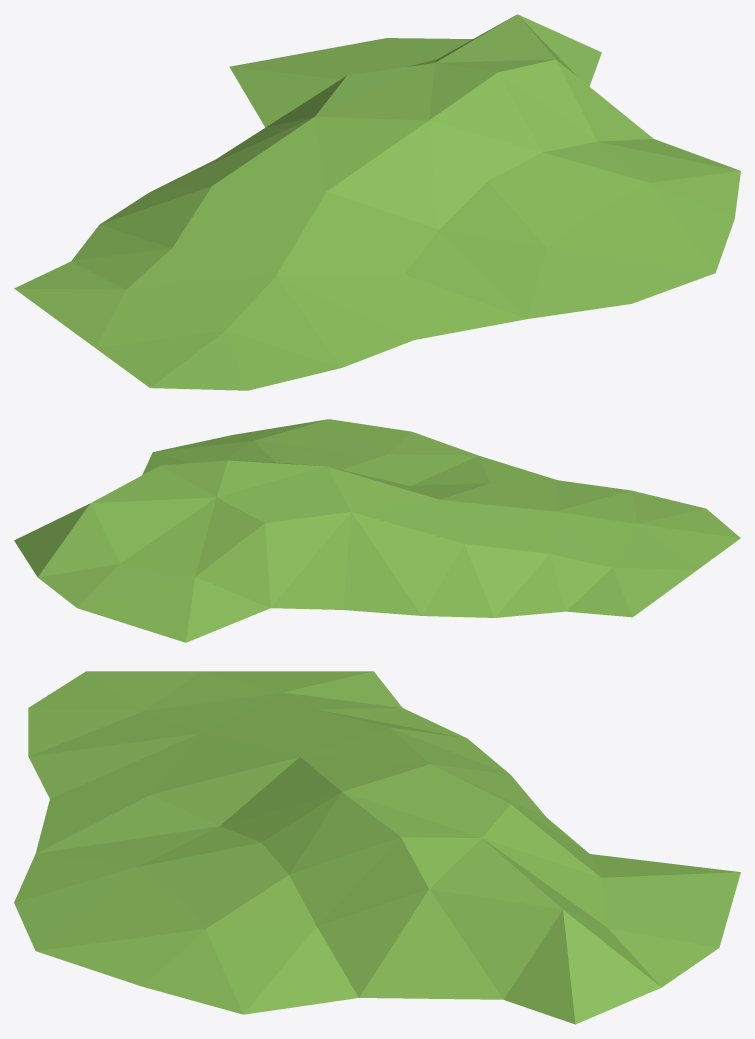
Rendered from MT_Mountain_S_c_13.fbx.
The picture shows the model from 3 angles, top to bottom: view 1: azimuth 30°, elevation 25°; view 2: azimuth 150°, elevation 25°; view 3: azimuth 270°, elevation 25°; orthographic projection. The views are drawn at different scales.
Parts seen in each view (by area): view 1: MT_Mountain_S_c_13; view 2: MT_Mountain_S_c_13; view 3: MT_Mountain_S_c_13.
Part boxes in pixels (<box>): MT_Mountain_S_c_13: <box>14,14,740,390</box>; MT_Mountain_S_c_13: <box>14,419,740,642</box>; MT_Mountain_S_c_13: <box>14,671,740,1024</box>.
Bounding box in the file's own units: 2353 × 282 × 2049.
